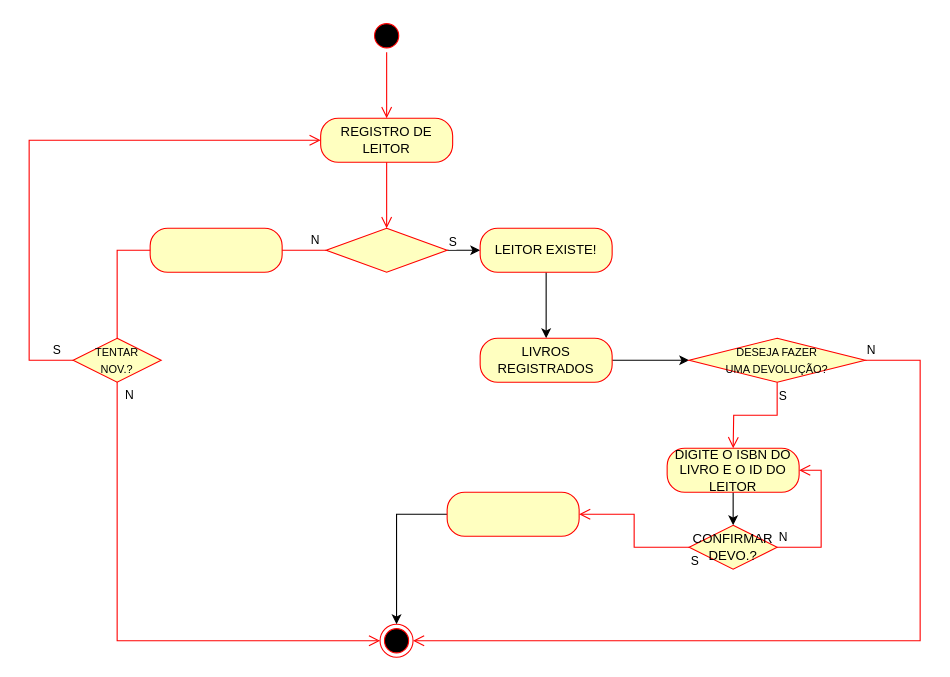
Some shapes in this 950 by 677 pixel diagram are drawn without their labels. Here are the shapes that lost their labels. From the top down, the centre of each, then its label:
pixel 215 249: REGISTRAR LEITOR
pixel 386 249: LEITOR EXISTE?
pixel 512 513: DEVOLUÇÃO COM SUCESSO
